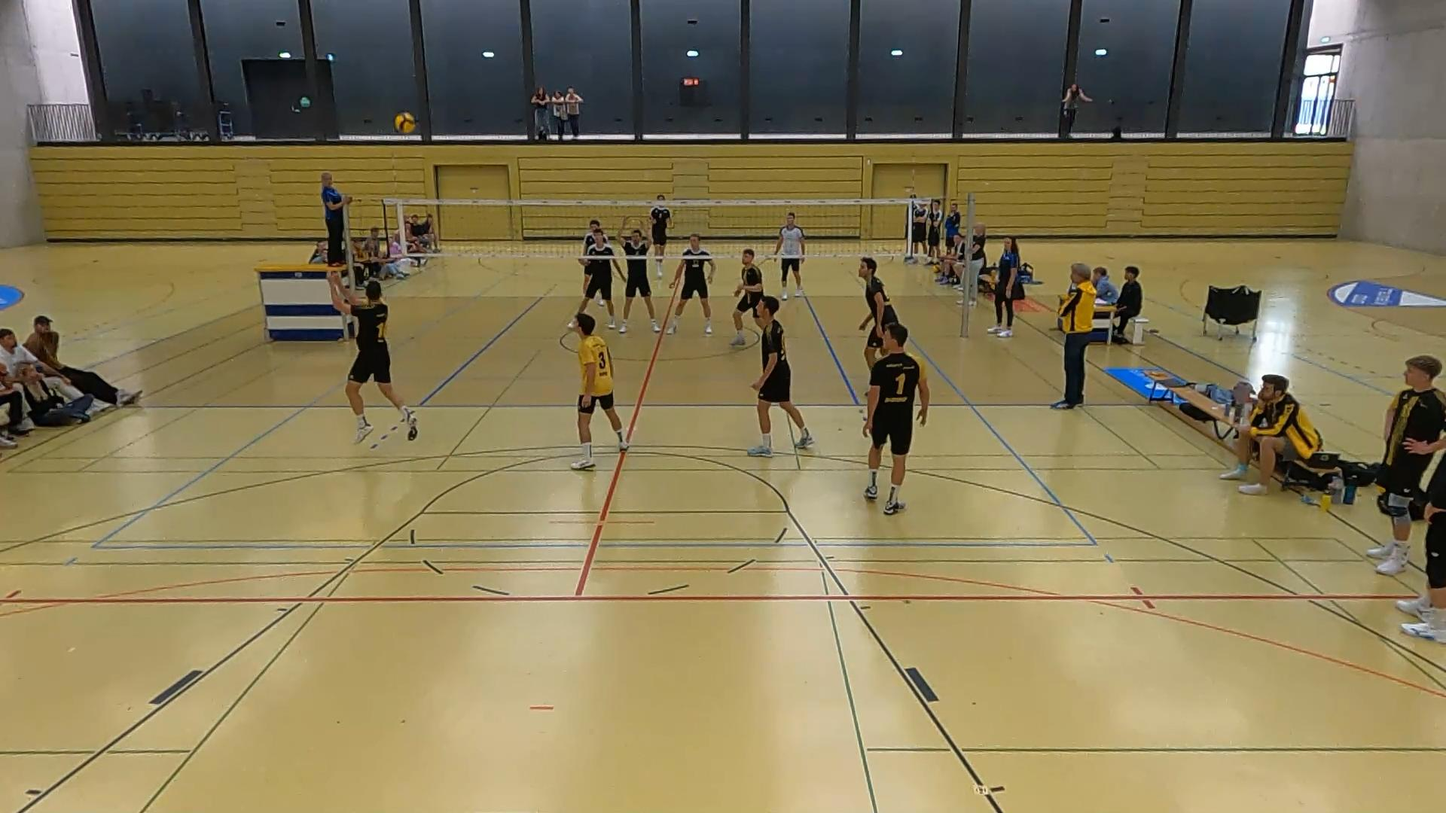ricezione: (320, 260, 421, 450)
